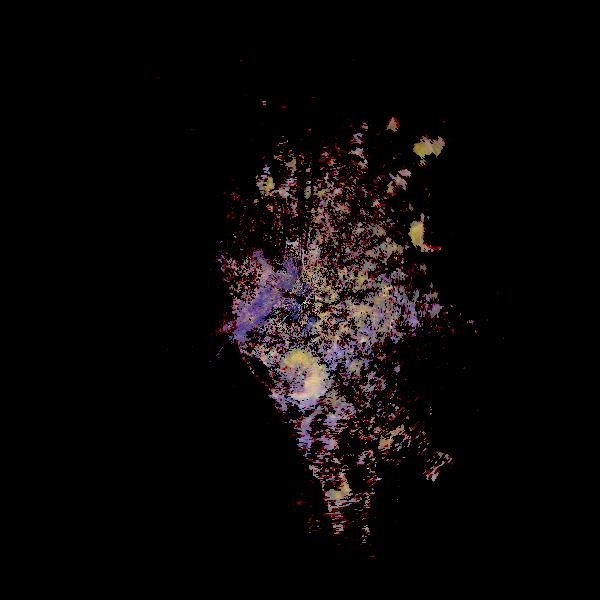roost: (254, 323, 362, 431), (380, 172, 488, 280)
